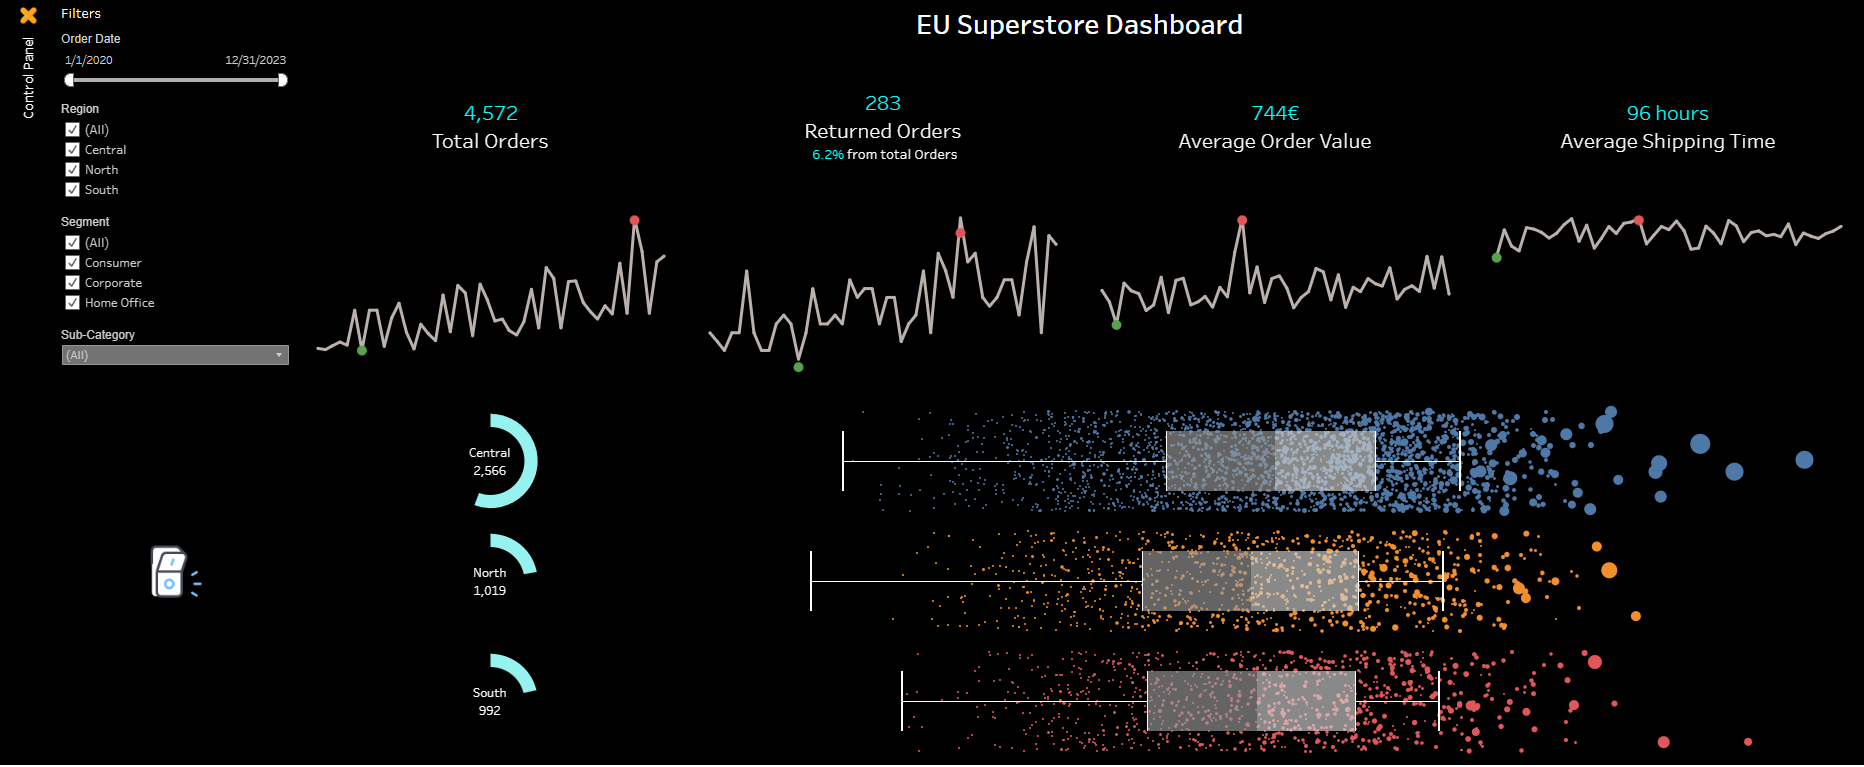

This screenshot's page, from the dashboard's own definition file:
{"tool":"tableau","page":{"name":"Dashboard  (Dark)","canvas":[1000,1000],"units":"permille","ordinal":1},"visuals":[{"type":"dashboard-object","box":[5,9.3,30.6,41.7]},{"type":"text","box":[35.5,9.3,125.9,41.7]},{"type":"text","box":[162.1,10.4,832.3,73]},{"type":"text","box":[5,51,30.6,939.8]},{"type":"filter","title":"AOV Sparkline (Dark)","param":"[federated.1dry0r310mfyqg1113m7x0grwc6n].[none:Order Date:qk]","box":[35.5,51,125.9,89.2]},{"type":"worksheet","title":"Total Orders Indicator (Dark)","mark":"Automatic","box":[162.1,83.4,208.1,171.2]},{"type":"worksheet","title":"Returnet Indicator (Dark)","mark":"Automatic","box":[370.2,83.4,208.1,171.2]},{"type":"worksheet","title":"AOV indicator (Dark)","mark":"Automatic","box":[578.2,83.4,208.1,171.2]},{"type":"worksheet","title":"Delivery Indicator (Dark)","mark":"Automatic","box":[786.3,83.4,208.1,171.2]},{"type":"filter","title":"AOV Sparkline (Dark)","param":"[federated.1dry0r310mfyqg1113m7x0grwc6n].[none:Region:nk]","box":[35.5,140.2,125.9,171.5]},{"type":"worksheet","title":"Orders Sparkline (Dark)","mark":"Automatic","rows":["Order ID"],"cols":["Order Date"],"box":[162.1,254.6,208.1,244.2]},{"type":"worksheet","title":"Returns Sparkline (Dark)","mark":"Automatic","rows":["Order ID (Sample - EU Superstore (1).xls - Returns.csv)"],"cols":["Order Date"],"box":[370.2,254.6,208.1,244.2]},{"type":"worksheet","title":"AOV Sparkline (Dark)","mark":"Automatic","rows":["Calculation_1347420736486125569"],"cols":["Order Date"],"box":[578.2,254.6,208.1,244.2]},{"type":"worksheet","title":"Delivery Sparkline (Dark)","mark":"Automatic","rows":["Calculation_1347420736487710722"],"cols":["Order Date"],"box":[786.3,254.6,208.1,244.2]},{"type":"filter","title":"AOV Sparkline (Dark)","param":"[federated.1dry0r310mfyqg1113m7x0grwc6n].[none:Segment:nk]","box":[35.5,311.7,125.9,171.5]},{"type":"filter","title":"AOV Sparkline (Dark)","param":"[federated.1dry0r310mfyqg1113m7x0grwc6n].[none:Sub-Category:nk]","box":[35.5,483.2,125.9,69.5]},{"type":"worksheet","title":"Region Pie (Dark)","mark":"Pie","rows":["Region"],"cols":["Calculation_1347420736501637128","Calculation_1347420736501637128"],"box":[161.5,500,208.5,490.7]},{"type":"worksheet","title":"Jitter (Dark)","mark":"Circle","rows":["Region","Calculation_1347420736509116432"],"cols":["Sales"],"box":[370,500,625,490.7]},{"type":"blank","box":[35.5,552.7,125.9,183.7]},{"type":"dashboard-object","box":[35.5,736.4,125.9,70.7]},{"type":"blank","box":[35.5,807.1,125.9,183.7]}]}

Visuals, with their boxes on the dashboard's canvas, which has no fixed pixel size, in thousandths of its width and height (x1, y1, x2, y2). These are canvas units, not pixel positions in the 1864x767 screenshot, which may show the page scaled, cropped or inside an application window:
dashboard-object: (x1=5, y1=9, x2=36, y2=51)
text: (x1=36, y1=9, x2=161, y2=51)
text: (x1=162, y1=10, x2=994, y2=83)
text: (x1=5, y1=51, x2=36, y2=991)
"AOV Sparkline (Dark)" filter: (x1=36, y1=51, x2=161, y2=140)
"Total Orders Indicator (Dark)" worksheet: (x1=162, y1=83, x2=370, y2=255)
"Returnet Indicator (Dark)" worksheet: (x1=370, y1=83, x2=578, y2=255)
"AOV indicator (Dark)" worksheet: (x1=578, y1=83, x2=786, y2=255)
"Delivery Indicator (Dark)" worksheet: (x1=786, y1=83, x2=994, y2=255)
"AOV Sparkline (Dark)" filter: (x1=36, y1=140, x2=161, y2=312)
"Orders Sparkline (Dark)" worksheet: (x1=162, y1=255, x2=370, y2=499)
"Returns Sparkline (Dark)" worksheet: (x1=370, y1=255, x2=578, y2=499)
"AOV Sparkline (Dark)" worksheet: (x1=578, y1=255, x2=786, y2=499)
"Delivery Sparkline (Dark)" worksheet: (x1=786, y1=255, x2=994, y2=499)
"AOV Sparkline (Dark)" filter: (x1=36, y1=312, x2=161, y2=483)
"AOV Sparkline (Dark)" filter: (x1=36, y1=483, x2=161, y2=553)
"Region Pie (Dark)" worksheet (Pie marks): (x1=162, y1=500, x2=370, y2=991)
"Jitter (Dark)" worksheet (Circle marks): (x1=370, y1=500, x2=995, y2=991)
blank: (x1=36, y1=553, x2=161, y2=736)
dashboard-object: (x1=36, y1=736, x2=161, y2=807)
blank: (x1=36, y1=807, x2=161, y2=991)
